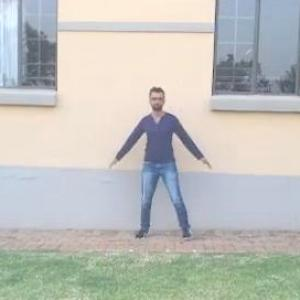land: (112, 92, 216, 252)
